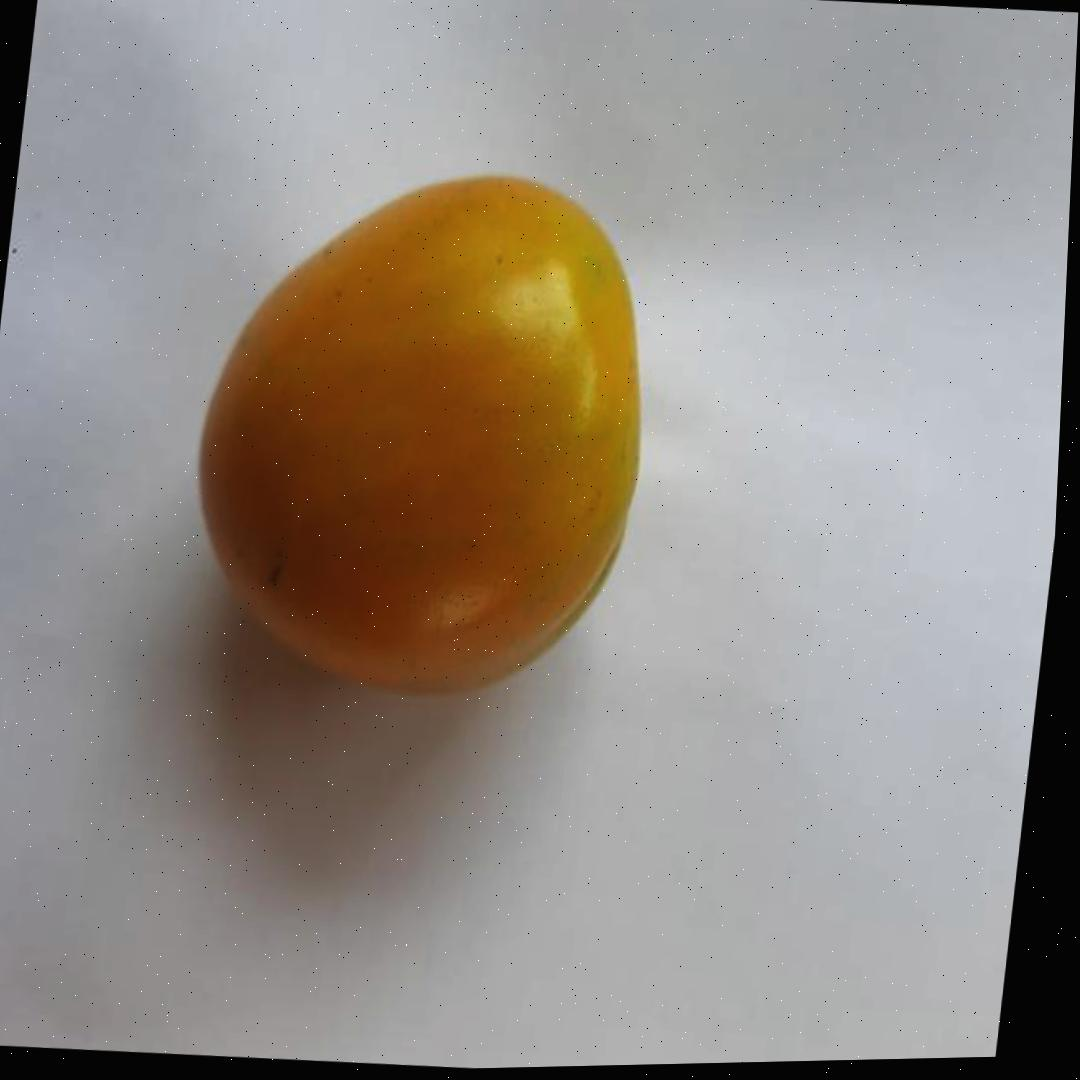setengah_matang: (168, 147, 678, 719)
